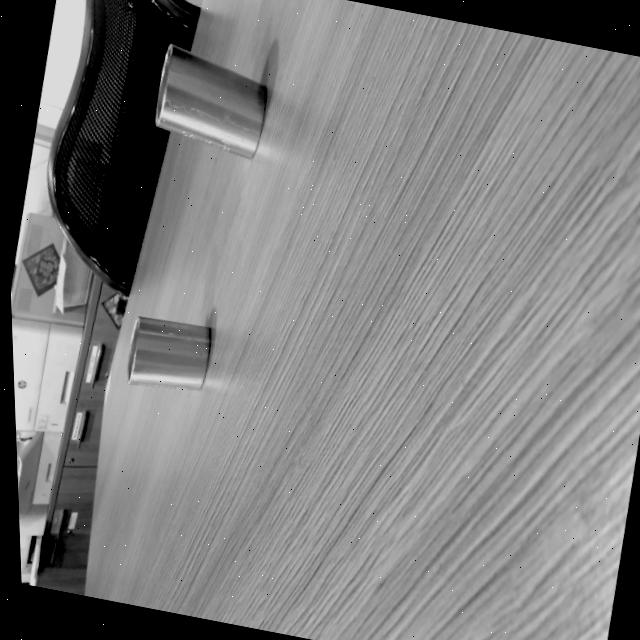Co_Lon: (137, 42, 282, 167)
Co_Nho: (125, 315, 214, 394)
